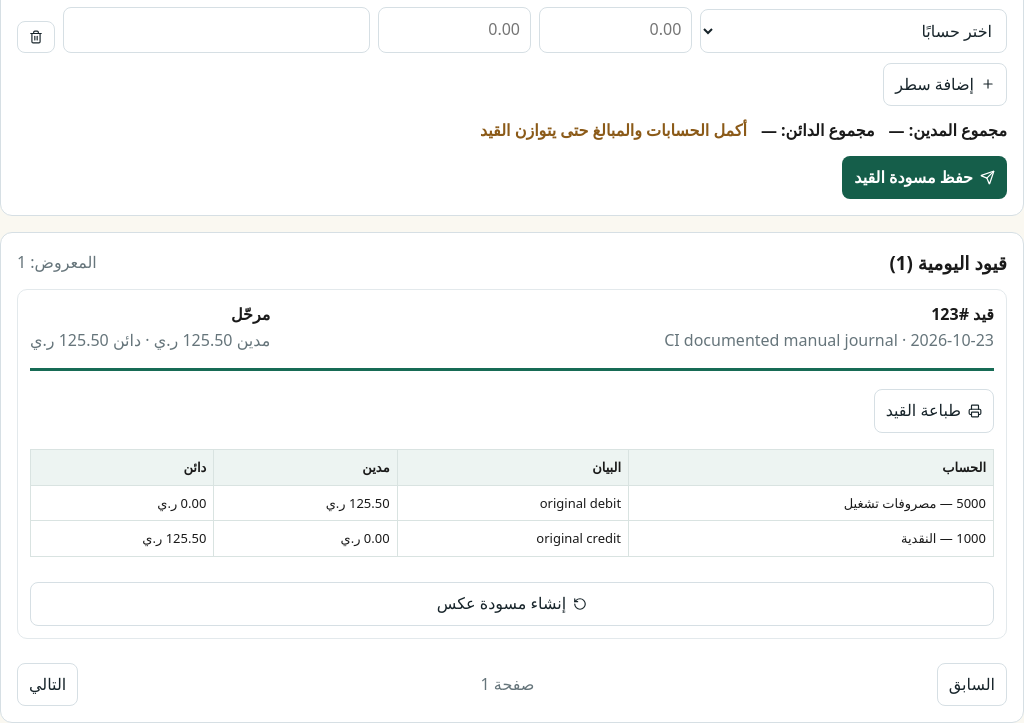
general ledger financial-statement UI › creates a manual reversal draft through the tenant-scoped RPC and refreshes the ledger
(page scrolled)
What coordinates should you click on to do the following:
click the button "إنشاء مسودة عكس"
I would click on:
 (512, 604)
Its box is [30,582,994,626].
(page scrolled)
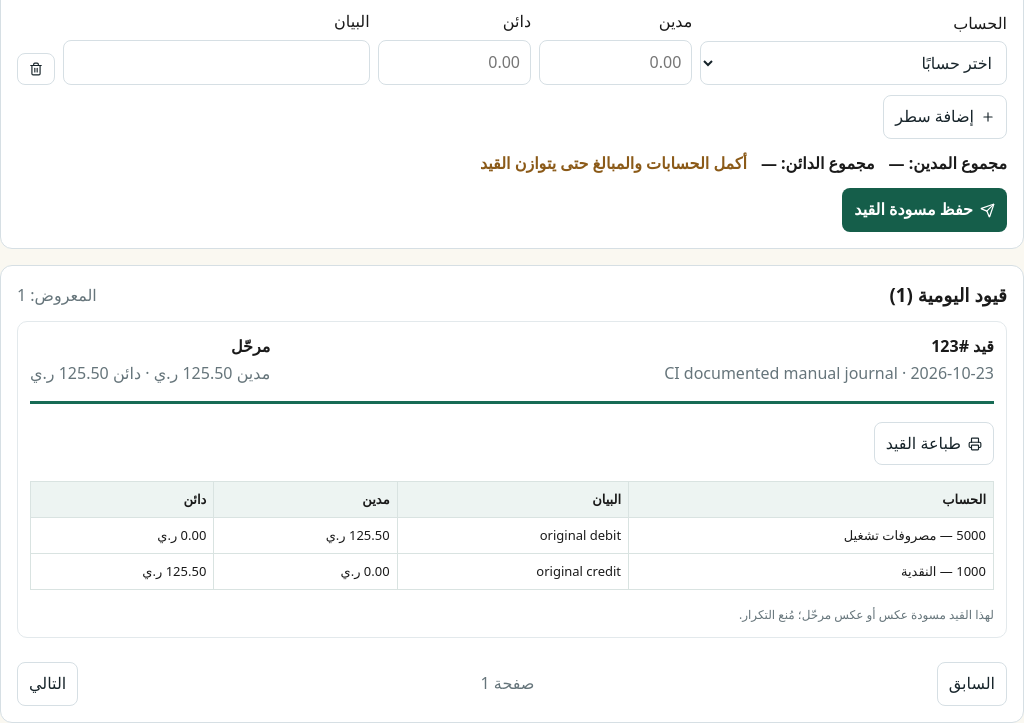
Expected: the button "إنشاء مسودة عكس" is not shown
Expected: the text "لهذا القيد مسودة عكس أو عكس مرحّل؛ مُنع التكرار." is shown, [739,606,994,623]
